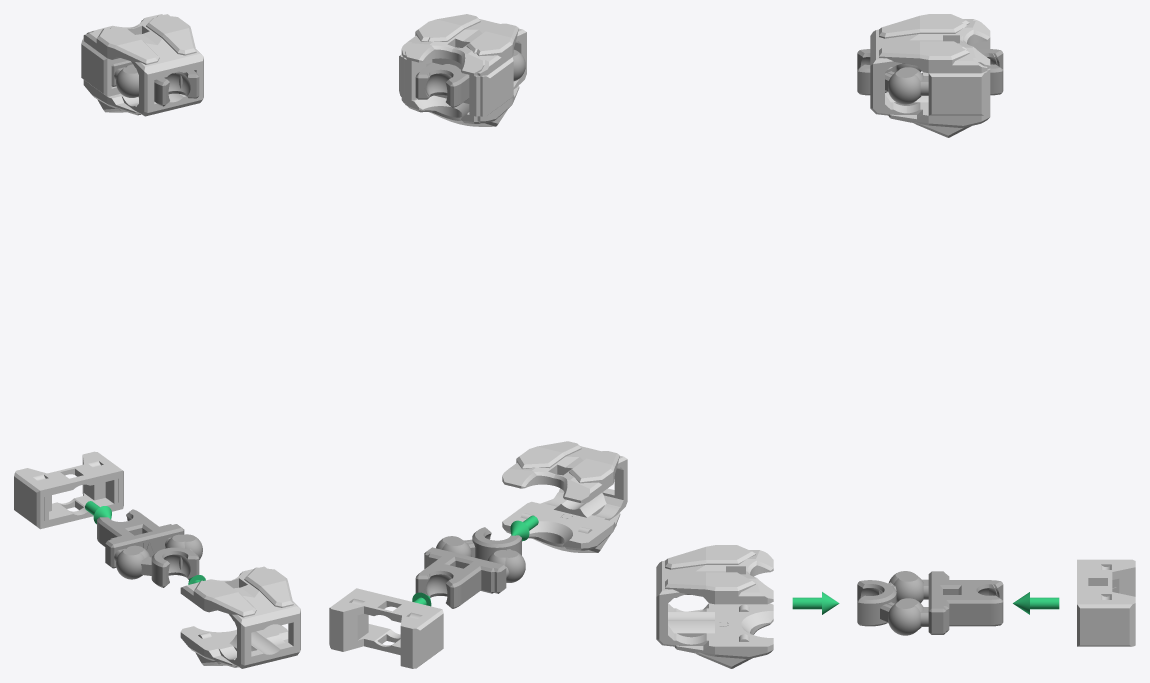
The model's file is chest.glb.
The picture shows the model from 3 angles, left to right: view 1: azimuth 30°, elevation 25°; view 2: azimuth 150°, elevation 25°; view 3: azimuth 270°, elevation 25°; orthographic projection. The views are drawn at different scales.
Visible parts, largest first — view 1: Body17.002, Body17, Body3.002, Body1.008, Body3.003, Body1.009, Body17.003, Body17.001, Body1.006, Body3, Body1.007; view 2: Body17.003, Body17.002, Body17.001, Body1.009, Body3.003, Body17, Body3.002, Body1.008, Body1.007, Body3, Body3.001, Body1.006; view 3: Body17.002, Body17.003, Body17, Body1.009, Body1.008, Body3.002, Body17.001, Body3, Body3.003, Body1.006, Body1.007.
Part boxes in pixels (x1,y1,x2,y2): Body17.002: (180, 566, 300, 668); Body17: (83, 14, 203, 116); Body3.002: (14, 451, 123, 529); Body1.008: (101, 510, 202, 587); Body3.003: (21, 453, 118, 527); Body1.009: (97, 509, 199, 587); Body17.003: (187, 570, 300, 668); Body17.001: (86, 14, 185, 112); Body1.006: (111, 60, 199, 106); Body3: (81, 38, 128, 96); Body1.007: (122, 64, 199, 106); Body17.003: (507, 441, 627, 552); Body17.002: (502, 442, 627, 550); Body17.001: (405, 21, 525, 126); Body1.009: (415, 527, 521, 608); Body3.003: (335, 595, 437, 667); Body17: (401, 14, 526, 123); Body3.002: (329, 588, 443, 668); Body1.008: (420, 527, 525, 601); Body1.007: (415, 62, 469, 107); Body3: (399, 54, 513, 116); Body3.001: (403, 57, 480, 116); Body1.006: (420, 49, 525, 100); Body17.002: (656, 545, 773, 659); Body17.003: (656, 547, 773, 668); Body17: (870, 14, 987, 127); Body1.009: (858, 573, 1003, 632); Body1.008: (857, 571, 997, 635); Body3.002: (1077, 559, 1135, 646); Body17.001: (876, 16, 990, 137); Body3: (928, 71, 987, 115); Body3.003: (1077, 562, 1135, 601); Body1.006: (857, 49, 997, 104); Body1.007: (857, 49, 1003, 98).
Size of the model in its own units: 19 by 117 by 81.8.
